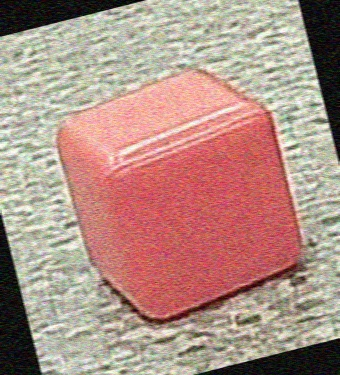orange_cube: (29, 65, 320, 328)
